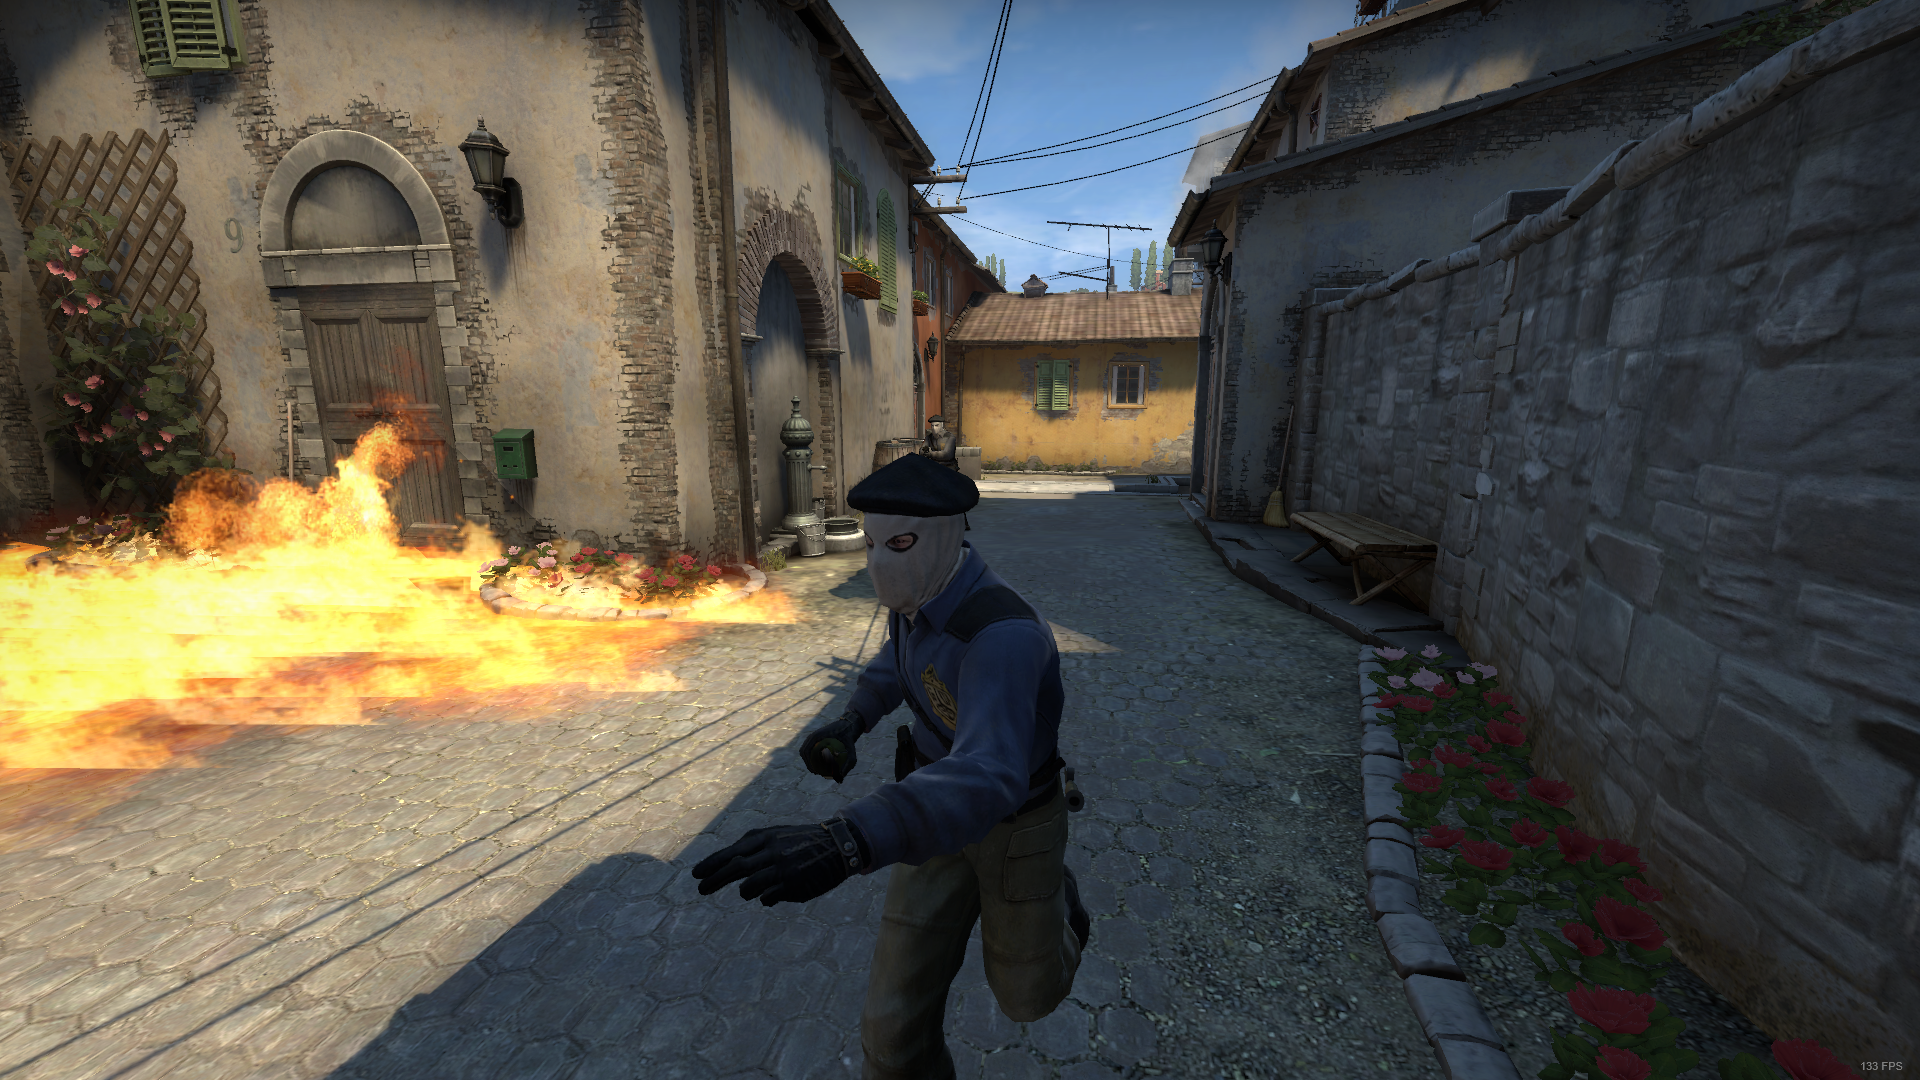t: (684, 450, 1102, 1080)
